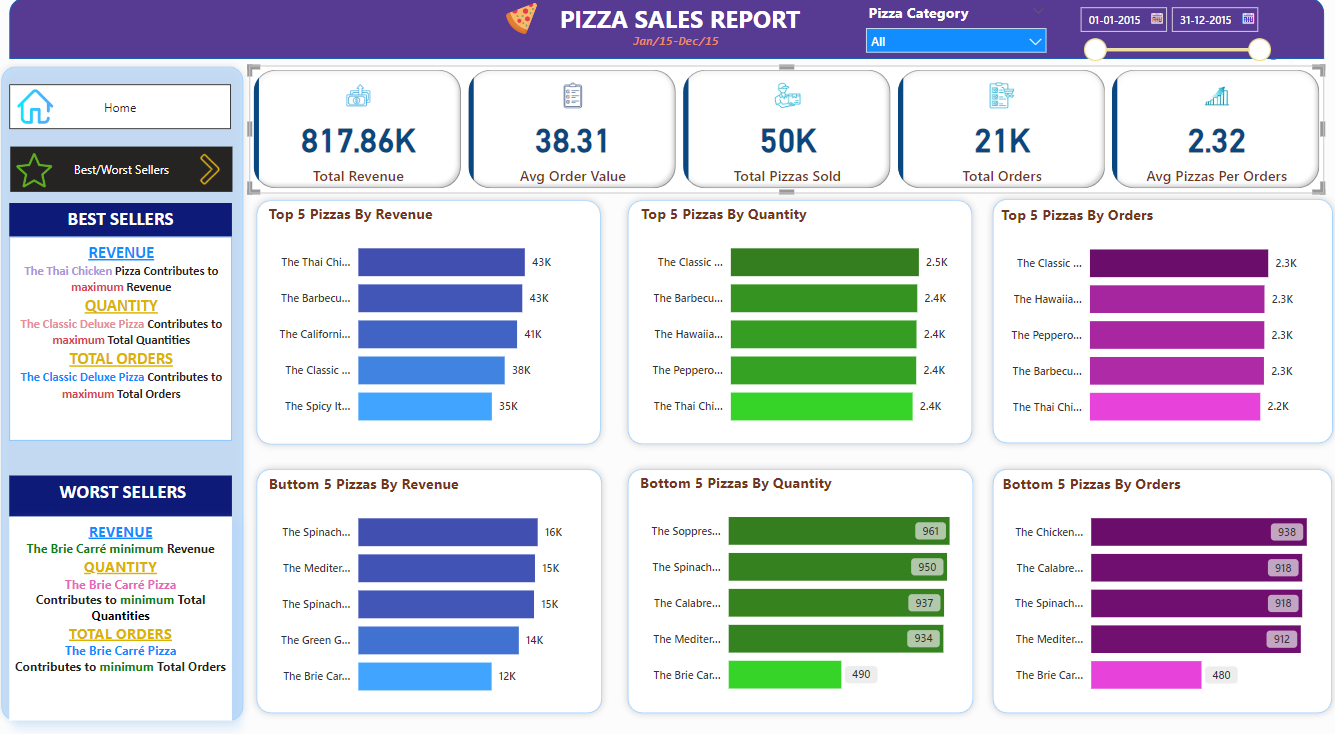

The dashboard page shown, as its layout file describes it:
{"tool":"powerbi","page":{"name":"Best/Worst Sellers","canvas":[1500,820],"ordinal":1},"visuals":[{"type":"cardVisual","fields":{"Data":["pizza_sales.Total Revenue","pizza_sales.Avg Order Value","pizza_sales.Total Pizzas Sold","pizza_sales.Total Orders","pizza_sales.Avg Pizzas Per Orders"]},"box":[285.4,75.2,1197.3,142],"z":0},{"type":"shape","box":[18.1,0,1464.6,68.2],"z":1000},{"type":"textbox","box":[618.1,0,293.8,48.7],"z":2000},{"type":"textbox","box":[698.9,33.4,122.5,30.6],"z":3000},{"type":"image","box":[561.1,0,55.7,45.9],"z":4000},{"type":"shape","box":[285.4,217.2,399.6,288.2],"z":5000},{"type":"shape","box":[1.4,68.2,285.4,744.8],"z":6000},{"type":"textbox","box":[18.1,228.3,247.8,37.6],"z":7000},{"type":"textbox","box":[18.1,265.9,247.8,226.9],"z":8000},{"type":"textbox","box":[17.5,531.6,247.8,45.9],"z":9000},{"type":"slicer","fields":{"Values":["pizza_sales.pizza_category"]},"box":[962,0,221.4,68.2],"z":10000},{"type":"slicer","fields":{"Values":["pizza_sales.order_date"]},"box":[1198.7,0,232.5,75.2],"z":11000},{"type":"shape","box":[698.9,217.2,400,288],"z":12000},{"type":"shape","box":[1105.4,215.8,395,288.2],"z":13000},{"type":"shape","box":[285.4,516.5,401,288.2],"z":14000},{"type":"shape","box":[698.9,516.5,401,288.2],"z":15000},{"type":"shape","box":[1105.4,516.5,394,288.2],"z":16000},{"type":"barChart","title":"Top 5 Pizzas By Revenue","fields":{"Category":["pizza_sales.pizza_name"],"Y":["pizza_sales.Total Revenue"]},"box":[302.1,228.3,366.1,264.5],"z":17000},{"type":"barChart","title":"Buttom 5 Pizzas By Revenue","fields":{"Category":["pizza_sales.pizza_name"],"Y":["pizza_sales.Total Revenue"]},"box":[302.1,529,366.1,264.5],"z":18000},{"type":"barChart","title":"Top 5 Pizzas By Quantity","fields":{"Category":["pizza_sales.pizza_name"],"Y":["pizza_sales.Total Pizzas Sold"]},"box":[717,228.3,366.1,264.5],"z":19000},{"type":"barChart","title":"Bottom 5 Pizzas By Quantity","fields":{"Category":["pizza_sales.pizza_name"],"Y":["pizza_sales.Total Pizzas Sold"]},"box":[716.2,527.5,365,263.8],"z":20000},{"type":"barChart","title":"Top 5 Pizzas By Orders","fields":{"Category":["pizza_sales.pizza_name"],"Y":["pizza_sales.Total Orders"]},"box":[1117.9,229.7,364.8,263.1],"z":21000},{"type":"barChart","title":"Bottom 5 Pizzas By Orders","fields":{"Category":["pizza_sales.pizza_name"],"Y":["pizza_sales.Total Orders"]},"box":[1120,528.8,365,262.5],"z":22000},{"type":"textbox","box":[18.1,577.8,247.8,226.9],"z":23000},{"type":"pageNavigator","box":[18.1,96.1,247.8,50.1],"z":24000},{"type":"pageNavigator","box":[19.5,165.7,247.8,50.1],"z":25000},{"type":"image","box":[22.3,96.1,50.1,50.1],"z":26000},{"type":"image","box":[19.5,167.1,52.9,50.1],"z":27000},{"type":"image","box":[217.2,165.7,48.7,50.1],"z":28000}]}

Visuals, with their boxes in screenshot pixels (x1, y1, x2, y2), scaled from the page's 1500x820 canvas onto the 1335x734 screenshot:
cardVisual - pizza_sales.Total Revenue x pizza_sales.Avg Order Value: left=254, top=67, right=1320, bottom=194
shape: left=16, top=0, right=1320, bottom=61
textbox: left=550, top=0, right=812, bottom=44
textbox: left=622, top=30, right=731, bottom=57
image: left=499, top=0, right=549, bottom=41
shape: left=254, top=194, right=610, bottom=452
shape: left=1, top=61, right=255, bottom=728
textbox: left=16, top=204, right=237, bottom=238
textbox: left=16, top=238, right=237, bottom=441
textbox: left=16, top=476, right=236, bottom=517
slicer - pizza_sales.pizza_category: left=856, top=0, right=1053, bottom=61
slicer - pizza_sales.order_date: left=1067, top=0, right=1274, bottom=67
shape: left=622, top=194, right=978, bottom=452
shape: left=984, top=193, right=1334, bottom=451
shape: left=254, top=462, right=611, bottom=720
shape: left=622, top=462, right=979, bottom=720
shape: left=984, top=462, right=1334, bottom=720
"Top 5 Pizzas By Revenue" barChart: left=269, top=204, right=595, bottom=441
"Buttom 5 Pizzas By Revenue" barChart: left=269, top=474, right=595, bottom=710
"Top 5 Pizzas By Quantity" barChart: left=638, top=204, right=964, bottom=441
"Bottom 5 Pizzas By Quantity" barChart: left=637, top=472, right=962, bottom=708
"Top 5 Pizzas By Orders" barChart: left=995, top=206, right=1320, bottom=441
"Bottom 5 Pizzas By Orders" barChart: left=997, top=473, right=1322, bottom=708
textbox: left=16, top=517, right=237, bottom=720
pageNavigator: left=16, top=86, right=237, bottom=131
pageNavigator: left=17, top=148, right=238, bottom=193
image: left=20, top=86, right=64, bottom=131
image: left=17, top=150, right=64, bottom=194
image: left=193, top=148, right=237, bottom=193
